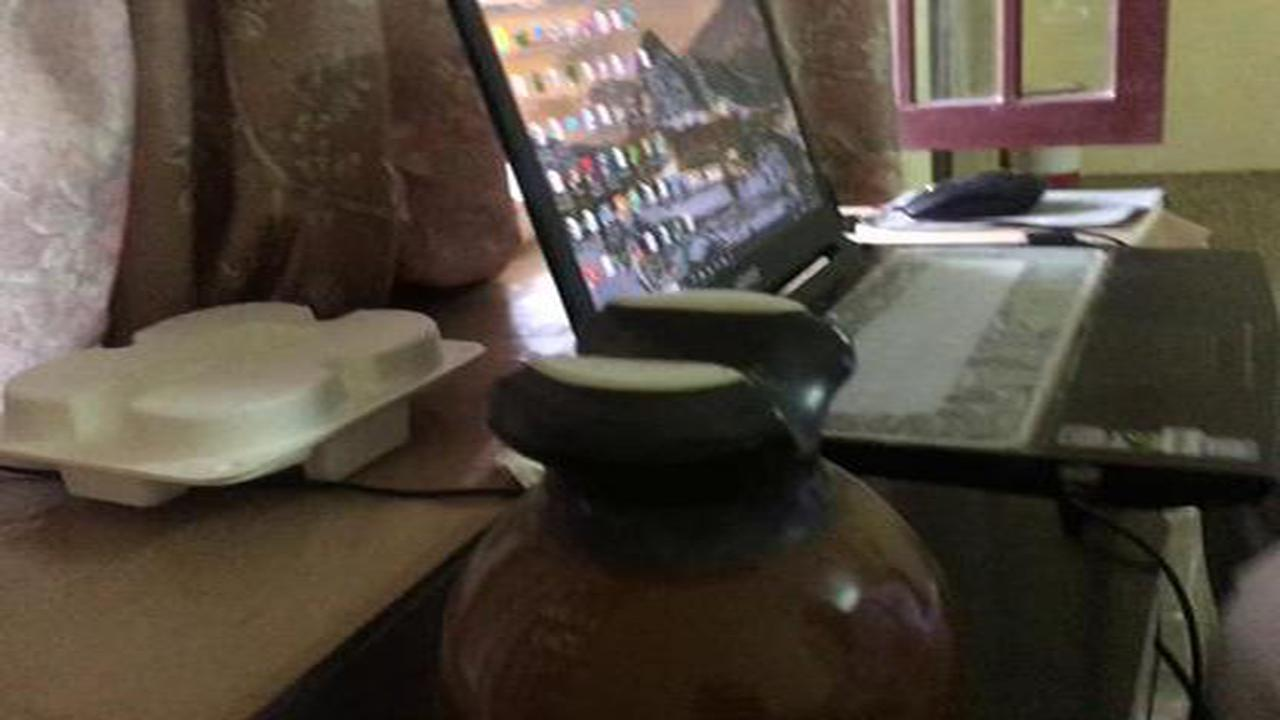insulator_pin: (407, 277, 997, 719)
